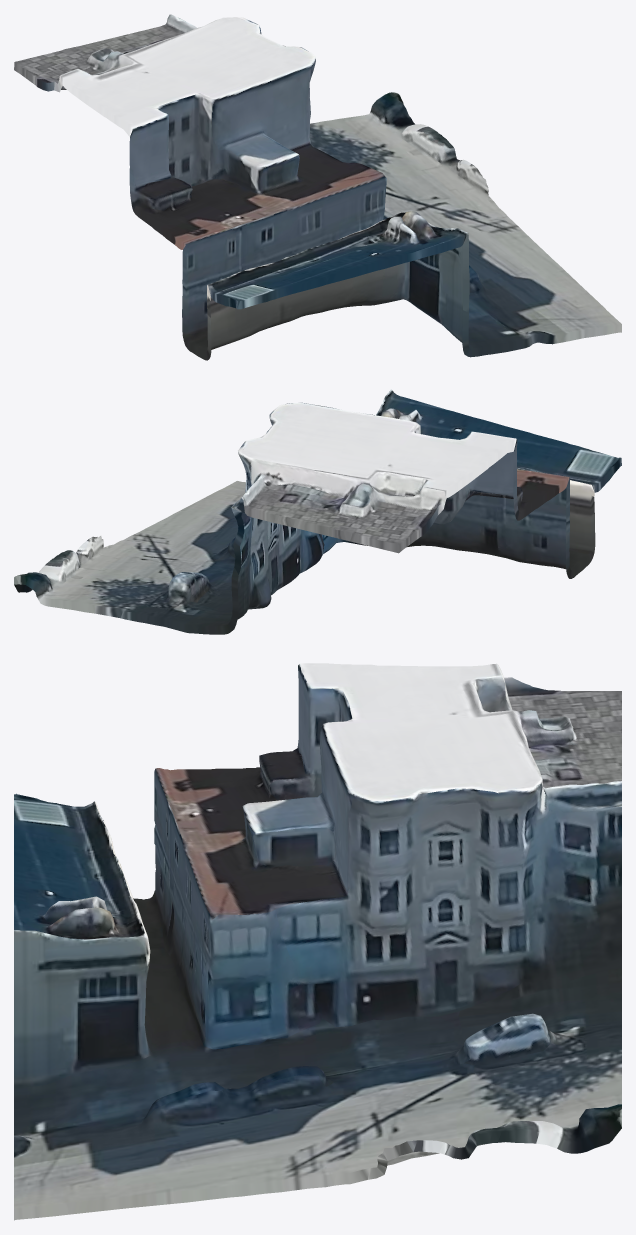
File: z20-167727-405191-h0-yup-uvflip-v3-world.glb
3 renders of one model, top to bottom at view 1: azimuth 30°, elevation 25°; view 2: azimuth 150°, elevation 25°; view 3: azimuth 270°, elevation 25°, orthographic. The views are drawn at different scales.
Size of the model in its own units: 30.2 by 16.76 by 30.32.
Materials: 1 (1 with a texture image).
